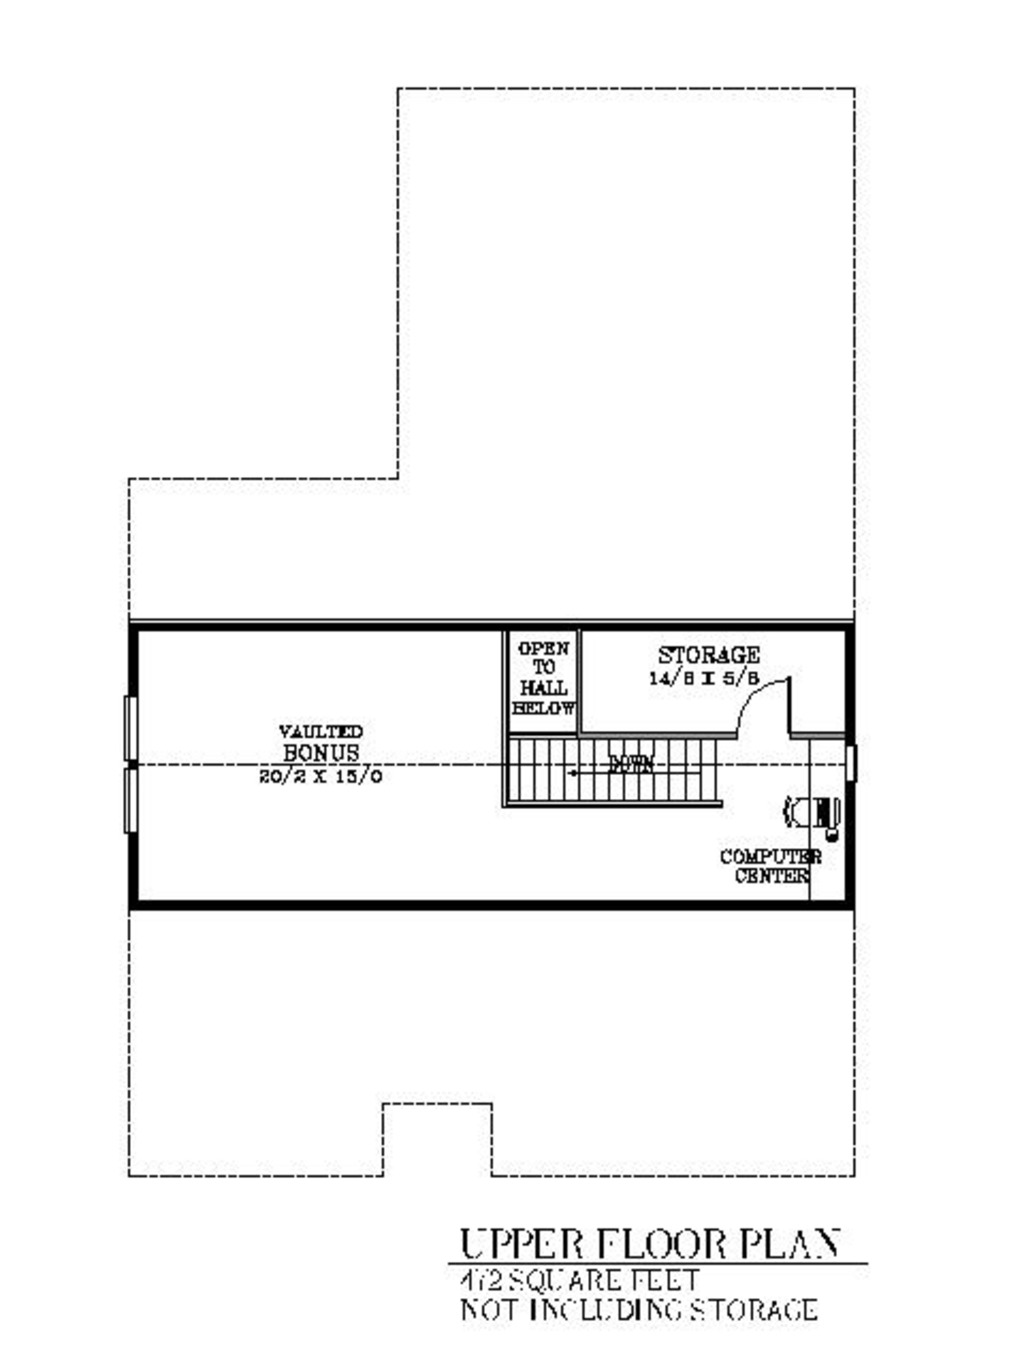door: (717, 669, 811, 750)
stairs: (492, 700, 740, 817)
window: (111, 765, 163, 840), (115, 694, 151, 773)
